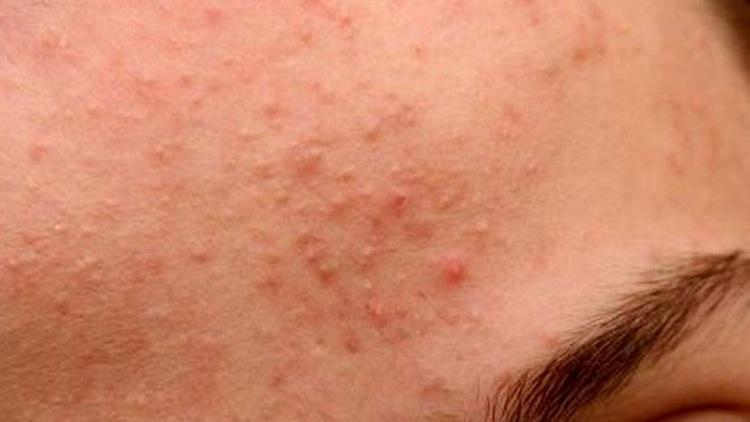Acne: (0, 0, 648, 422)
